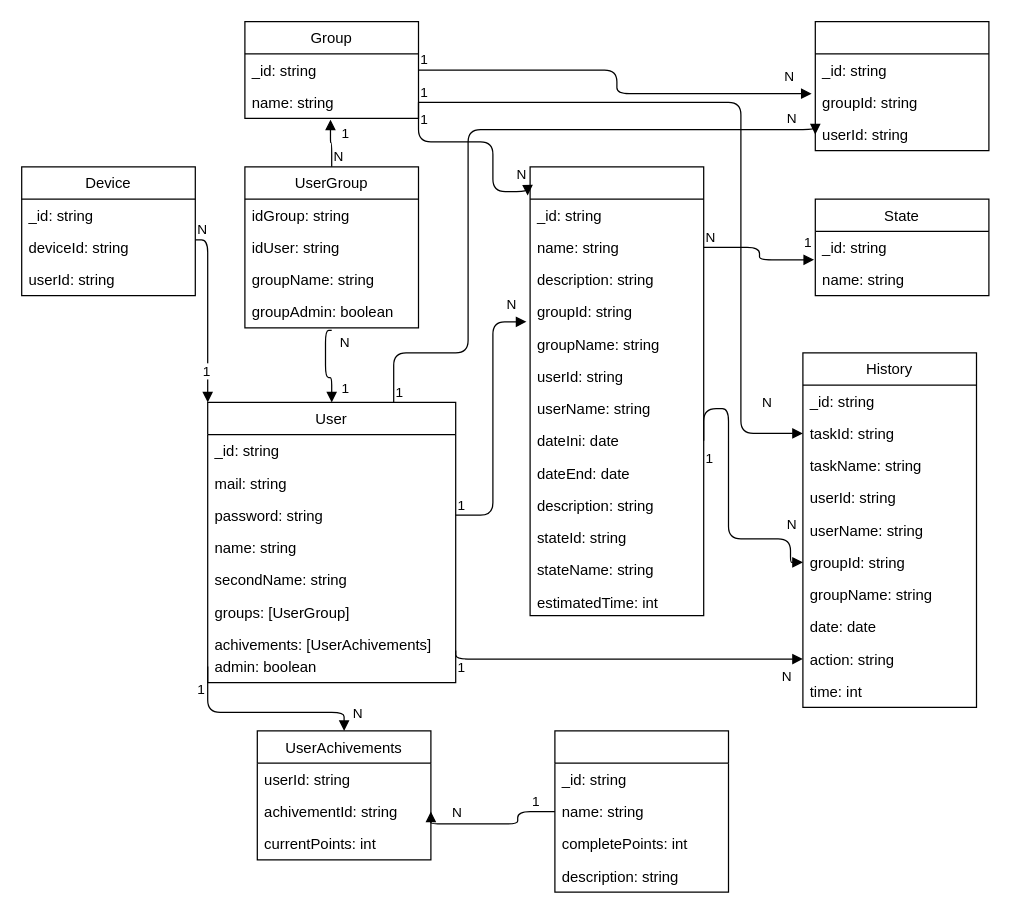
The diagram is 1011 pixels wide and 918 high, and some of its shapes have lost their labels. Each missing label, with the box of its shape:
Achivements: (554, 730, 728, 892)
Invitation: (814, 20, 989, 151)
Task: (529, 166, 704, 616)
